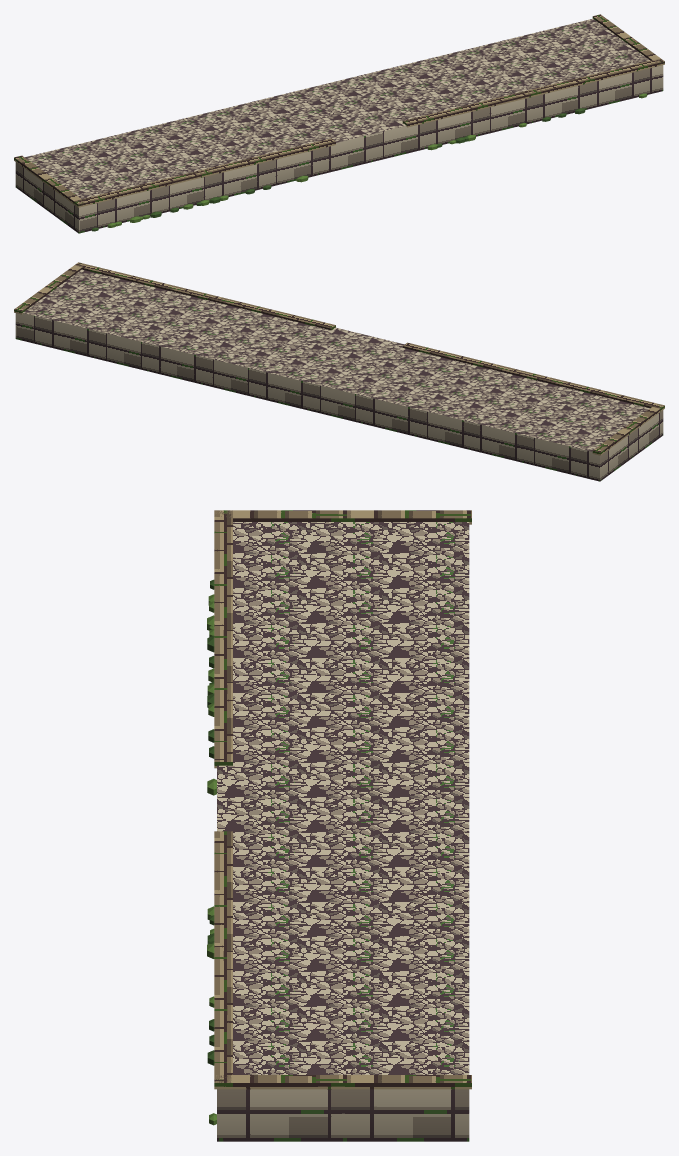
The model's file is scene_gates.glb.
The picture shows the model from 3 angles, top to bottom: view 1: azimuth 30°, elevation 25°; view 2: azimuth 150°, elevation 25°; view 3: azimuth 270°, elevation 25°; orthographic projection. The views are drawn at different scales.
Parts seen in each view (by area): view 1: scene_gates; view 2: scene_gates; view 3: scene_gates.
Boxes of the visible parts, left/top/right/bottom form: scene_gates: left=14, top=14, right=664, bottom=233; scene_gates: left=14, top=262, right=664, bottom=481; scene_gates: left=207, top=510, right=471, bottom=1141.
Bounding box in the file's own units: 26.3 × 1.37 × 5.14.
3 materials, 2 textured.
